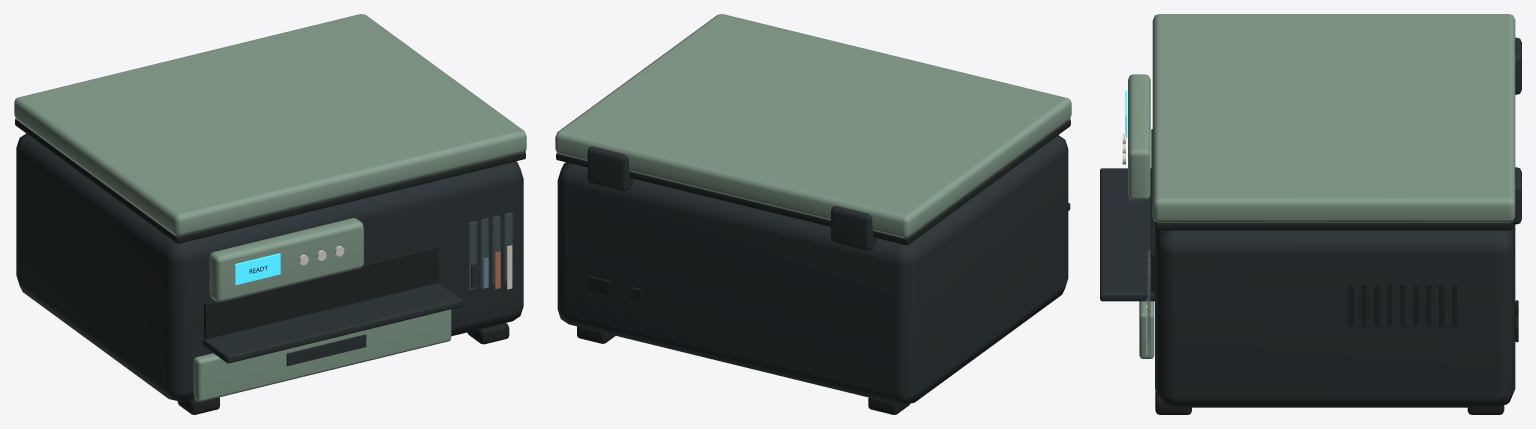
File: compact-paper-printer.glb
3 renders of one model, left to right at view 1: azimuth 30°, elevation 25°; view 2: azimuth 150°, elevation 25°; view 3: azimuth 270°, elevation 25°, orthographic. The views are drawn at different scales.
Visible parts, largest first — view 1: catalog_surface_RealismUV, catalog_surface_UVMap; view 2: catalog_surface_UVMap, catalog_surface_RealismUV; view 3: catalog_surface_RealismUV, catalog_surface_UVMap.
Part boxes in pixels (left/top/right/bottom): catalog_surface_RealismUV: left=14, top=14, right=526, bottom=414; catalog_surface_UVMap: left=16, top=133, right=523, bottom=401; catalog_surface_UVMap: left=557, top=135, right=1070, bottom=404; catalog_surface_RealismUV: left=555, top=14, right=1071, bottom=414; catalog_surface_RealismUV: left=1122, top=14, right=1518, bottom=414; catalog_surface_UVMap: left=1100, top=37, right=1521, bottom=407.
Bounding box in the file's own units: 0.42 × 0.23 × 0.39.
